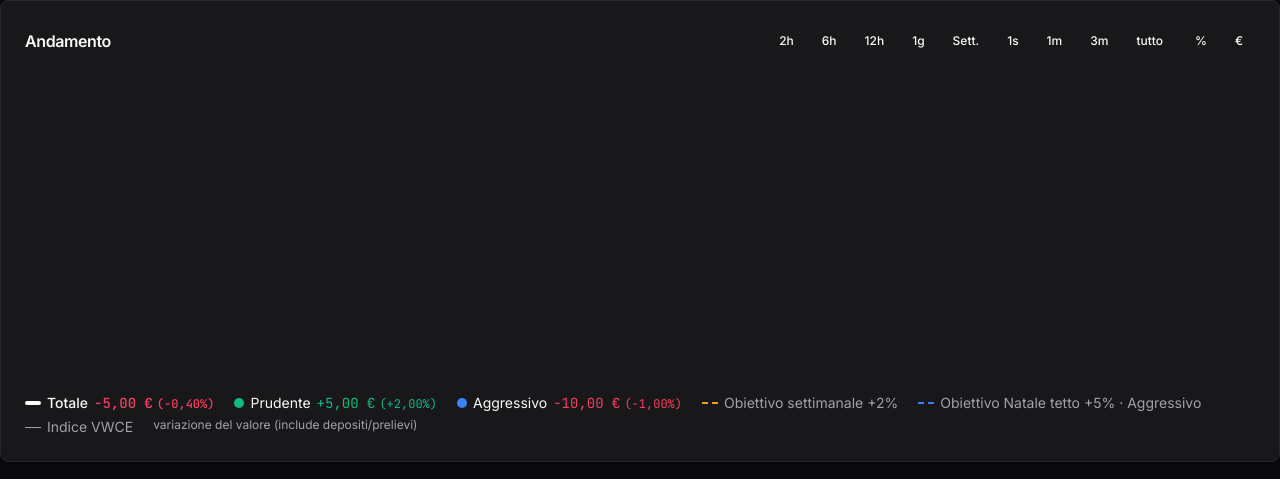
Test: EquityHistoryCard › dashboard with an index goal: the index line is thin, tagged and in the legend
Expected: the list item "Indice VWCE" is shown, [47, 418, 133, 435]
What coordinates should you click on to do the following:
click the button "€"
I would click on:
 (1239, 41)
Its box is [1223, 25, 1255, 57].
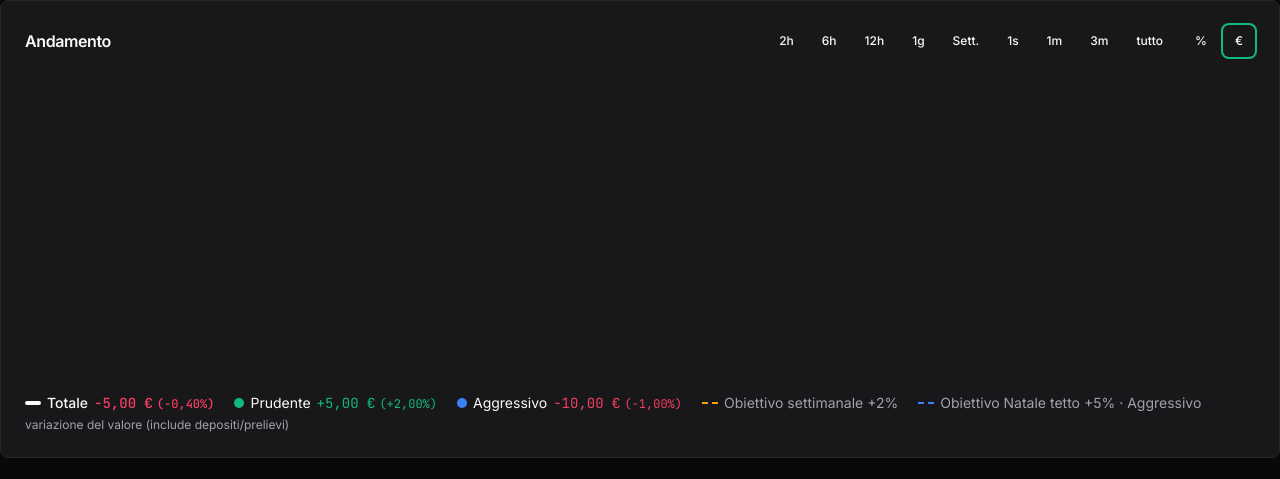
Result: the list item "Indice VWCE" is gone
